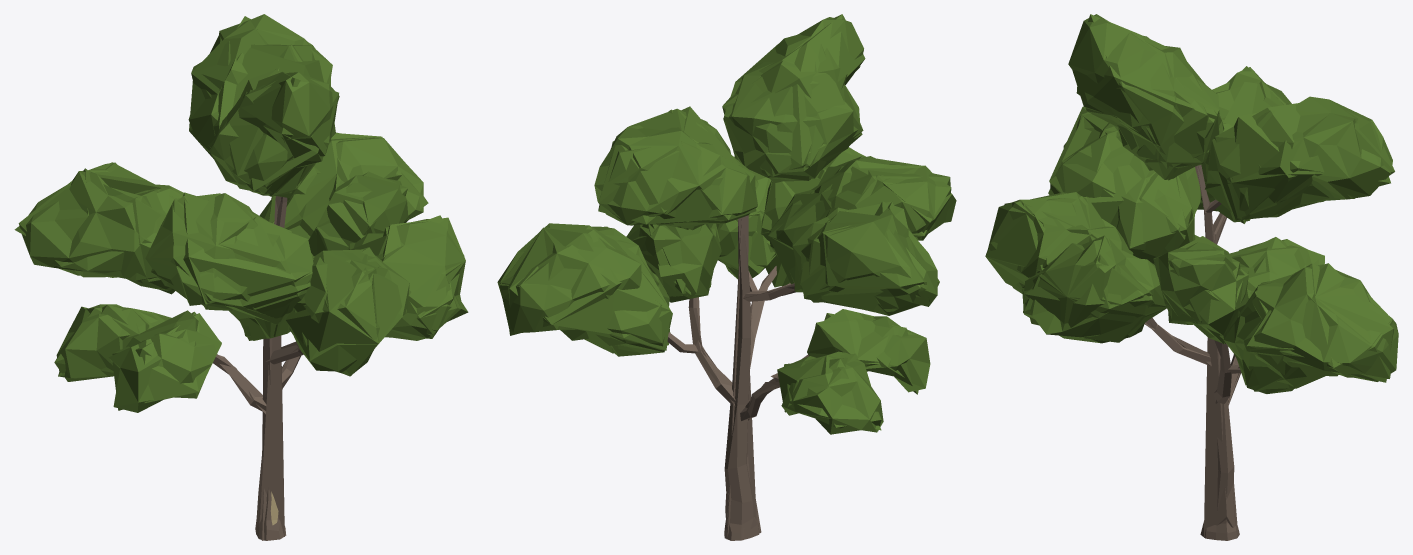
Rendered from Pram-Tree1.fbx.
3 renders of one model, left to right at view 1: azimuth 30°, elevation 25°; view 2: azimuth 150°, elevation 25°; view 3: azimuth 270°, elevation 25°, orthographic. The views are drawn at different scales.
Visible parts, largest first — view 1: Tree_1_2_LOD0, Tree_1_2_LOD0.001; view 2: Tree_1_2_LOD0, Tree_1_2_LOD0.001; view 3: Tree_1_2_LOD0, Tree_1_2_LOD0.001.
Boxes of the visible parts, x1,y1,x2,y2 form: Tree_1_2_LOD0: (14, 14, 468, 412); Tree_1_2_LOD0.001: (213, 196, 303, 540); Tree_1_2_LOD0: (497, 14, 956, 434); Tree_1_2_LOD0.001: (667, 169, 808, 540); Tree_1_2_LOD0: (985, 14, 1398, 393); Tree_1_2_LOD0.001: (1144, 165, 1241, 540).
Bounding box in the file's own units: 1056 × 1227 × 916.
